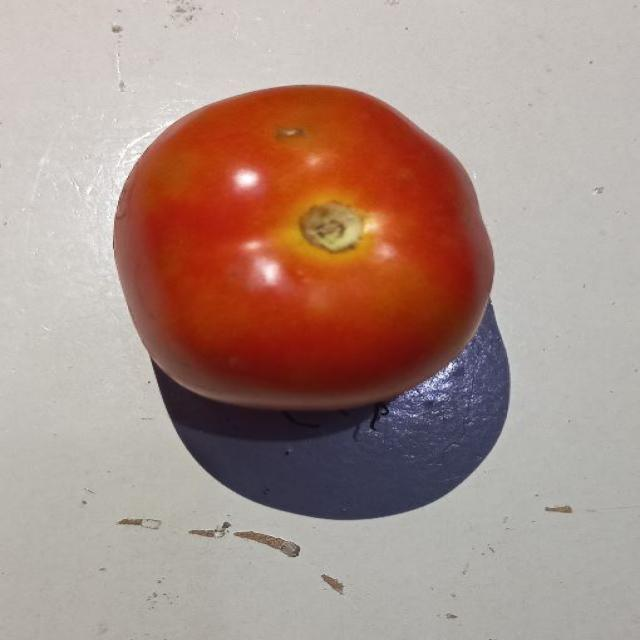ripe tomato: (92, 65, 494, 404)
